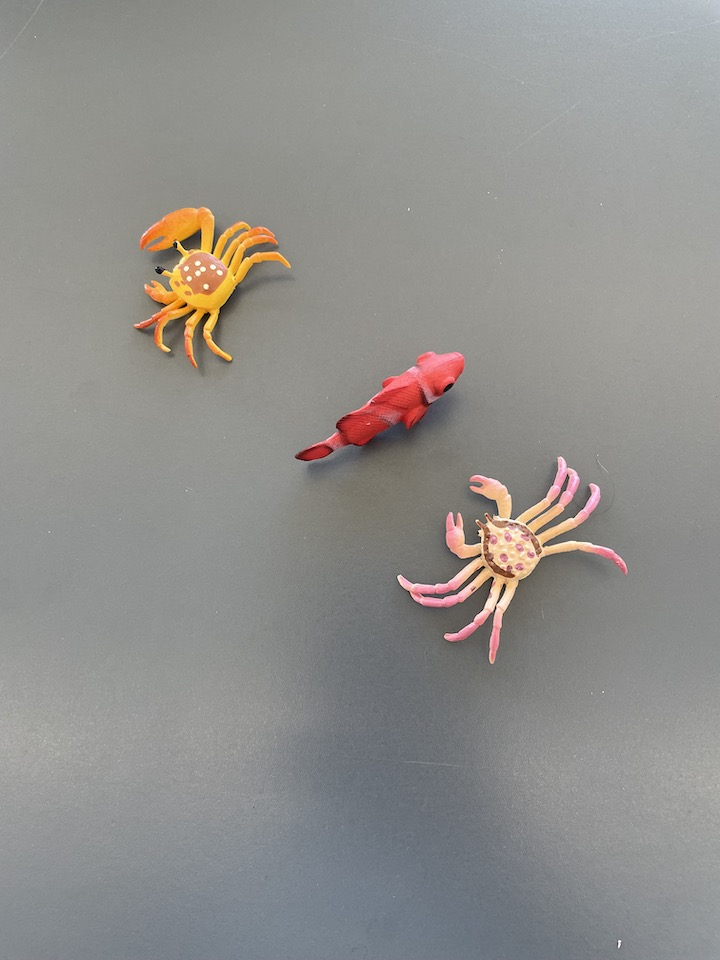crab: (396, 452, 630, 667), (134, 205, 292, 370)
fish: (296, 348, 468, 465)
